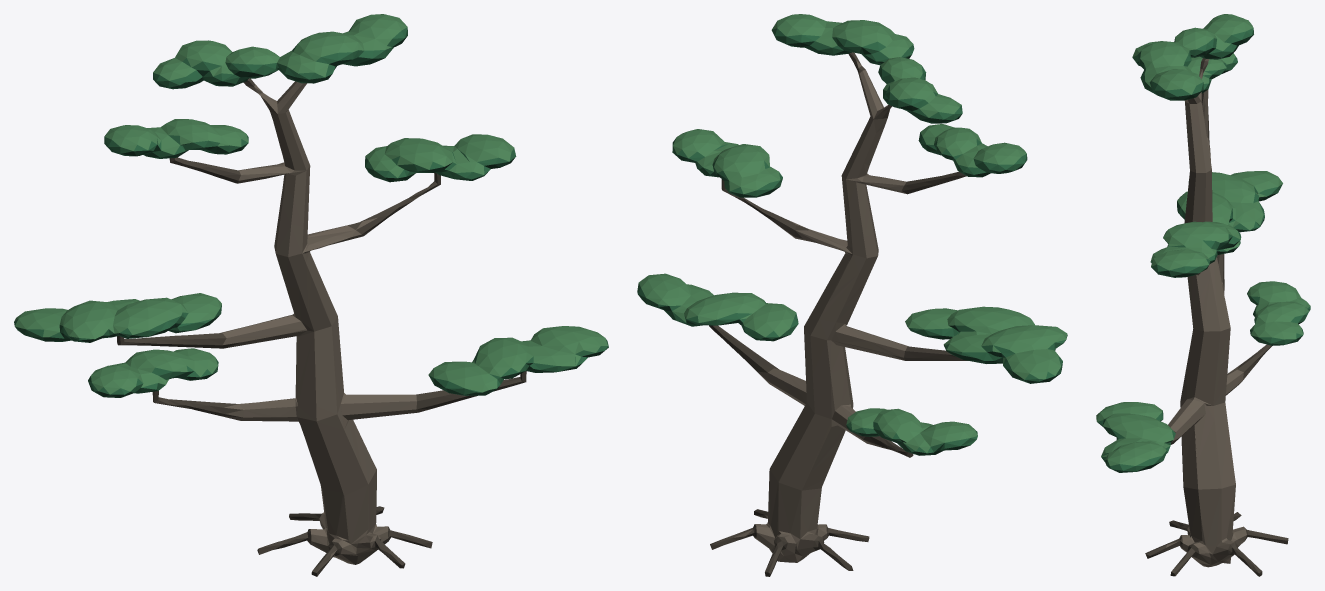
The model's file is ancient-pine-v1-lod0.glb.
3 renders of one model, left to right at view 1: azimuth 30°, elevation 25°; view 2: azimuth 150°, elevation 25°; view 3: azimuth 270°, elevation 25°, orthographic. The views are drawn at different scales.
Visible parts, largest first — view 1: n12.004, n8.004, n11.004, n9.004, n10.004; view 2: n12.004, n8.004, n11.004, n9.004, n10.004; view 3: n8.004, n12.004, n11.004, n9.004, n10.004.
Part boxes in pixels (x1,y1,x2,y2): n12.004: [14, 14, 607, 394]; n8.004: [219, 81, 431, 564]; n11.004: [14, 22, 608, 394]; n9.004: [117, 78, 526, 576]; n10.004: [15, 36, 606, 397]; n12.004: [638, 14, 1067, 452]; n8.004: [734, 60, 907, 562]; n11.004: [637, 28, 1067, 453]; n9.004: [709, 52, 967, 576]; n10.004: [639, 33, 1065, 455]; n8.004: [1166, 59, 1255, 567]; n12.004: [1096, 14, 1310, 465]; n11.004: [1097, 23, 1310, 471]; n9.004: [1145, 58, 1288, 576]; n10.004: [1097, 35, 1303, 472].
Size of the model in its own units: 5.26 by 5.43 by 2.13.
